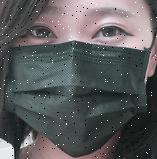with_mask: (2, 1, 157, 159)
